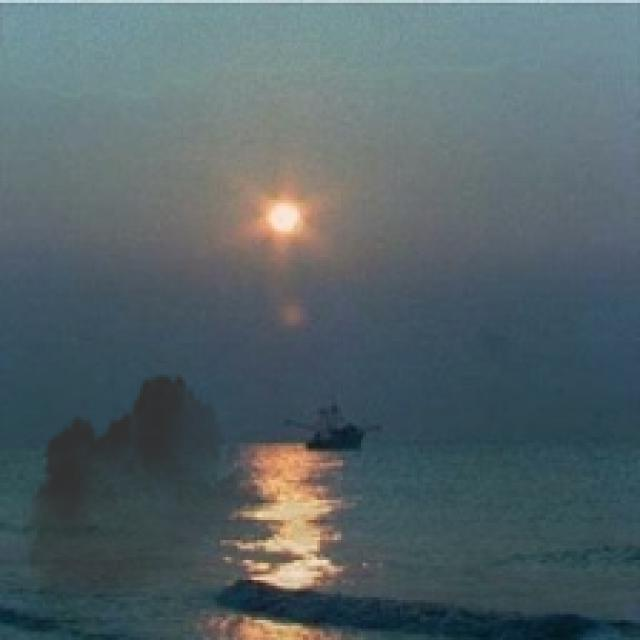Smoke: (22, 363, 272, 626)
